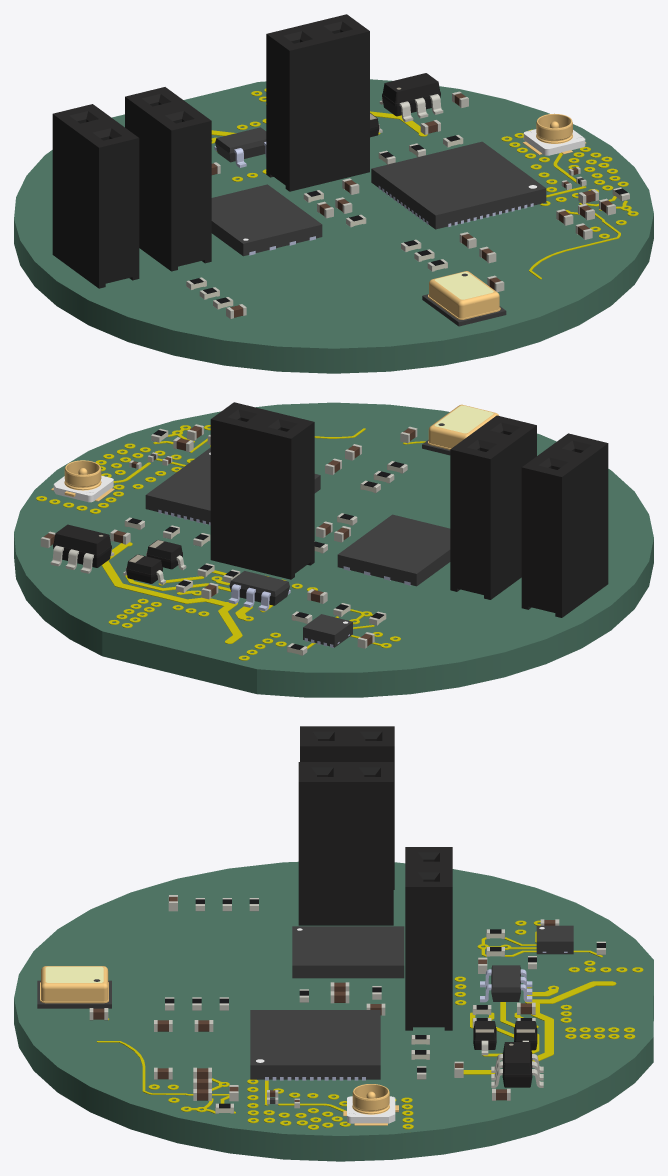
The model's file is mic-proj.glb.
3 renders of one model, top to bottom at view 1: azimuth 30°, elevation 25°; view 2: azimuth 150°, elevation 25°; view 3: azimuth 270°, elevation 25°, orthographic.
Visible parts, largest first — view 1: =>[0:1:1:18], J2, J1, J5, U3, U2, =>[0:1:1:16], MK1, U8, J3, IC1; view 2: =>[0:1:1:18], J2, J1, J5, =>[0:1:1:16], U2, U3, U8, MK1, J3, IC1, U4 (+3 smaller); view 3: =>[0:1:1:18], J5, U3, J2, =>[0:1:1:16], U2, J1, MK1, U8, J3, IC1, U4 (+2 smaller).
Part boxes in pixels (<box>): =>[0:1:1:18]: <box>14,79,653,373</box>; J2: <box>266,14,369,191</box>; J1: <box>52,104,139,288</box>; J5: <box>125,87,211,271</box>; U3: <box>371,141,546,229</box>; U2: <box>211,184,322,256</box>; =>[0:1:1:16]: <box>211,88,638,279</box>; MK1: <box>422,271,506,326</box>; U8: <box>379,73,443,122</box>; J3: <box>522,113,586,155</box>; IC1: <box>214,127,266,167</box>; =>[0:1:1:18]: <box>14,402,653,697</box>; J2: <box>210,402,314,579</box>; J1: <box>521,433,608,617</box>; J5: <box>450,415,536,599</box>; =>[0:1:1:16]: <box>36,425,425,660</box>; U2: <box>337,514,450,586</box>; U3: <box>145,448,320,525</box>; U8: <box>50,524,114,573</box>; MK1: <box>422,404,498,455</box>; J3: <box>51,460,114,502</box>; IC1: <box>228,571,290,611</box>; U4: <box>303,614,352,647</box>; =>[0:1:1:18]: <box>14,861,653,1161</box>; J5: <box>298,762,393,925</box>; U3: <box>250,1010,380,1080</box>; J2: <box>405,847,452,1030</box>; =>[0:1:1:16]: <box>96,920,643,1129</box>; U2: <box>292,926,404,978</box>; J1: <box>300,726,394,889</box>; MK1: <box>37,966,111,1008</box>; U8: <box>491,1042,543,1087</box>; J3: <box>343,1084,398,1125</box>; IC1: <box>480,965,532,1002</box>; U4: <box>536,925,573,954</box>.
Bounding box in the file's own units: 0.035 × 0.0116 × 0.0343.
